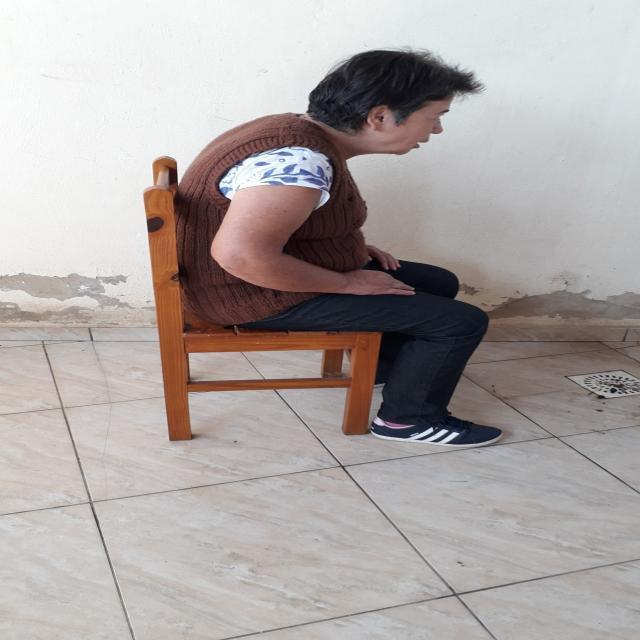bad-pose: (0, 0, 640, 640)
